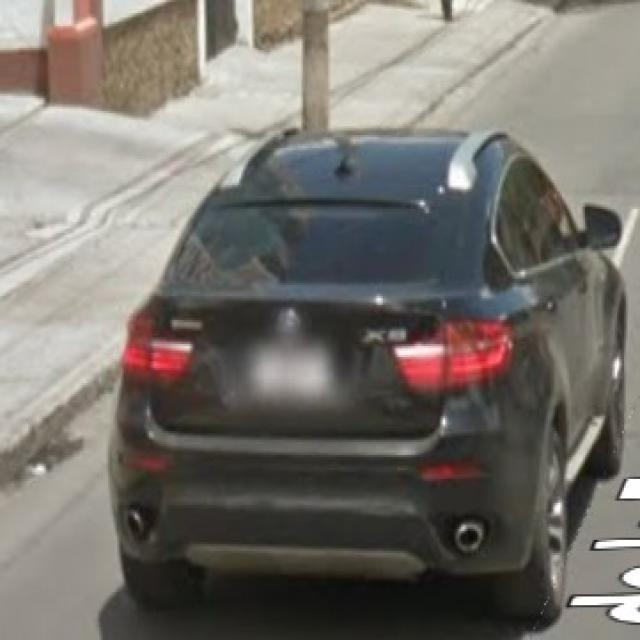Car: (119, 133, 622, 622)
